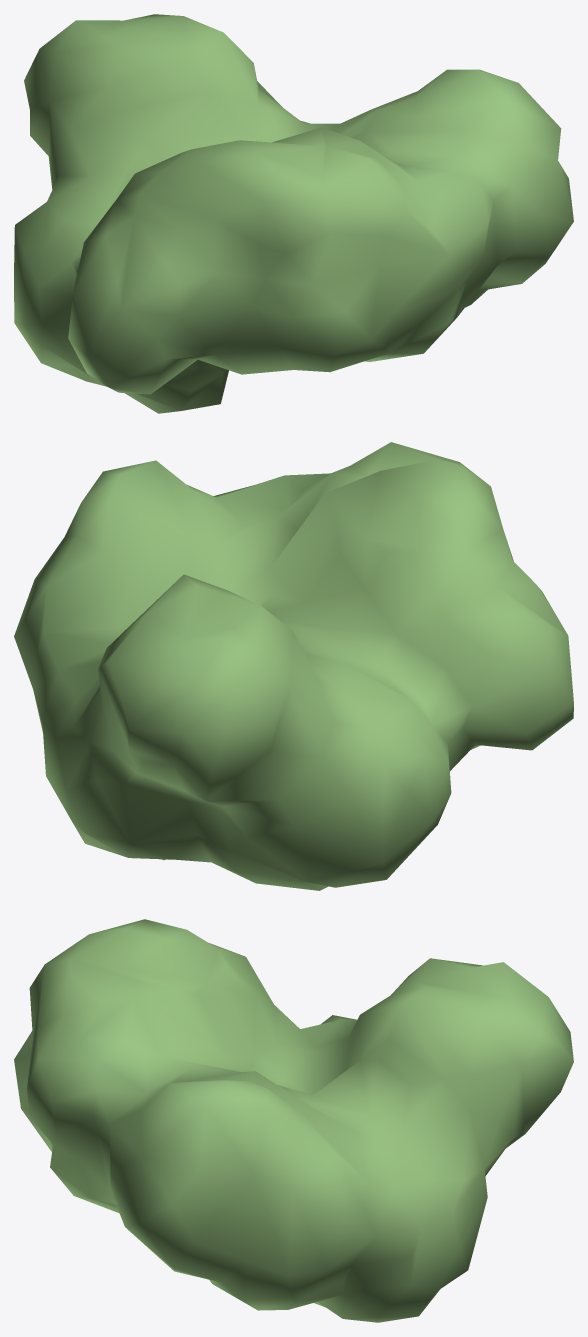
Rendered from bush_wide.glb.
3 renders of one model, top to bottom at view 1: azimuth 30°, elevation 25°; view 2: azimuth 150°, elevation 25°; view 3: azimuth 270°, elevation 25°, orthographic. The views are drawn at different scales.
Parts seen in each view (by area): view 1: crown; view 2: crown; view 3: crown.
Part boxes in pixels (x1=…): crown: x1=14, y1=14, x2=573, y2=413; crown: x1=14, y1=442, x2=573, y2=890; crown: x1=14, y1=919, x2=573, y2=1322.
Size of the model in its own units: 2.61 by 1.73 by 2.77.
